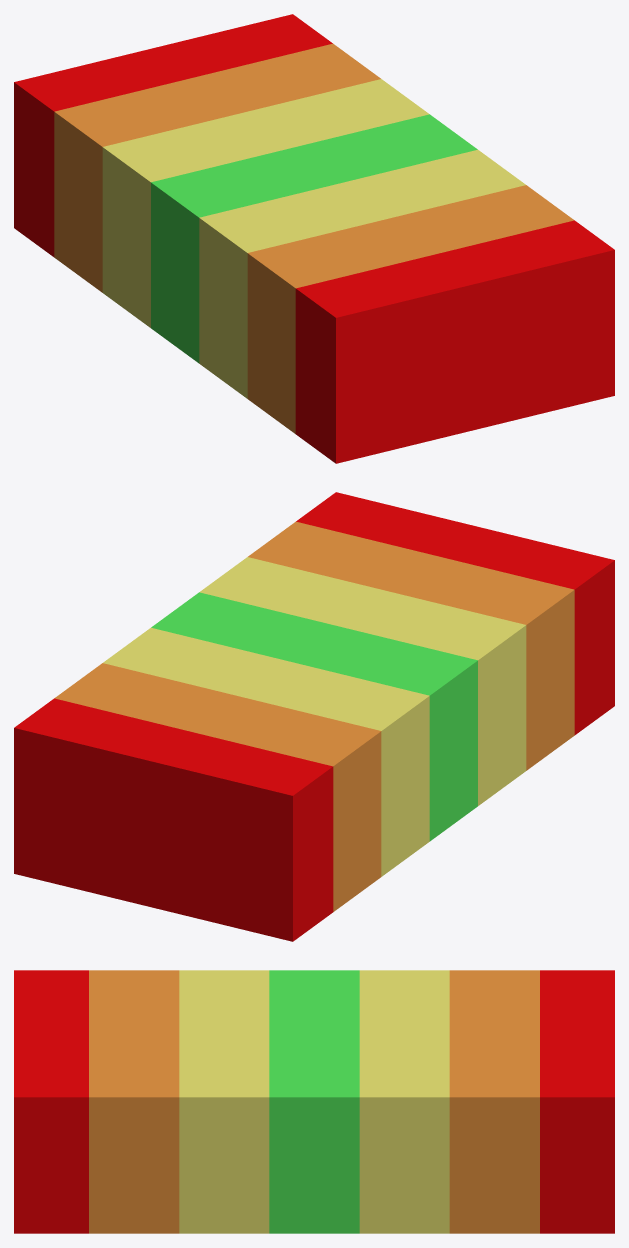
The picture shows the model from 3 angles, top to bottom: view 1: azimuth 30°, elevation 25°; view 2: azimuth 150°, elevation 25°; view 3: azimuth 270°, elevation 25°; orthographic projection. The views are drawn at different scales.
Parts seen in each view (by area): view 1: Cube; view 2: Cube; view 3: Cube.
Boxes of the visible parts, x1=… form: Cube: x1=14, y1=14, x2=614, y2=463; Cube: x1=14, y1=492, x2=614, y2=941; Cube: x1=14, y1=970, x2=614, y2=1233.
Bounding box in the file's own units: 4 × 2 × 8.
